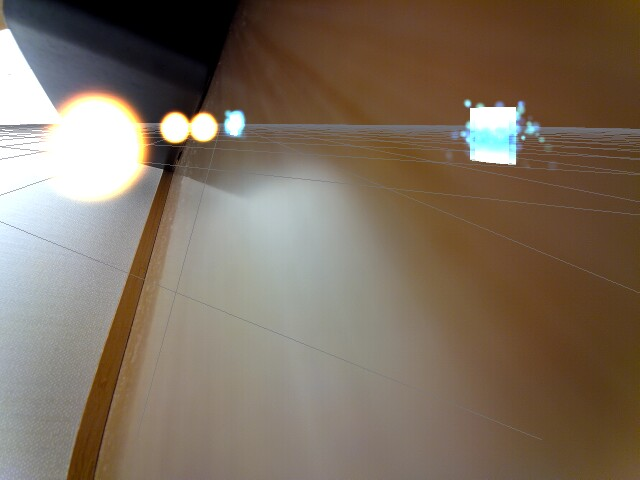firebig: (35, 85, 151, 207)
